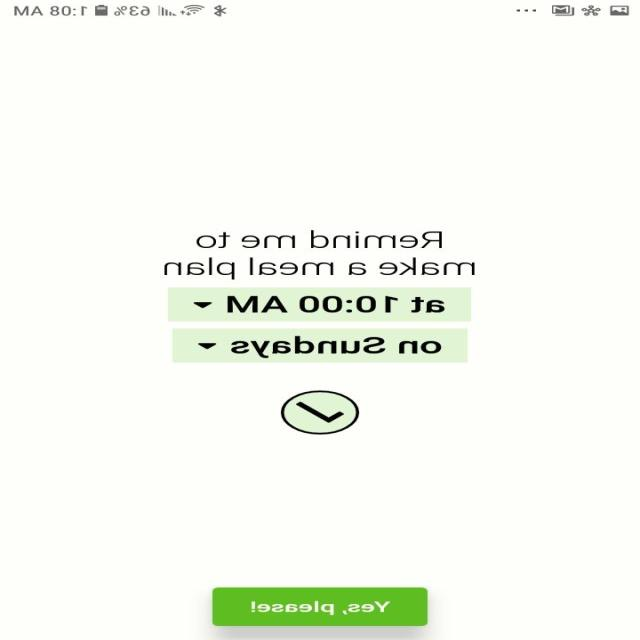Icon: (281, 390, 360, 434), (198, 343, 218, 349), (194, 302, 212, 308)
Text: (164, 230, 476, 280), (231, 335, 443, 358), (228, 296, 446, 312)
TextButton: (212, 586, 428, 626)
